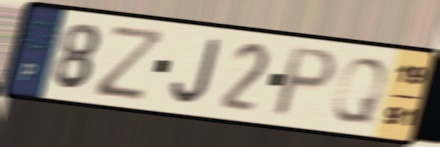2: (216, 41, 272, 115)
8: (53, 22, 102, 92)
J: (169, 35, 225, 106)
P: (268, 44, 341, 120)
Q: (328, 55, 391, 127)
Z: (92, 22, 170, 104)
